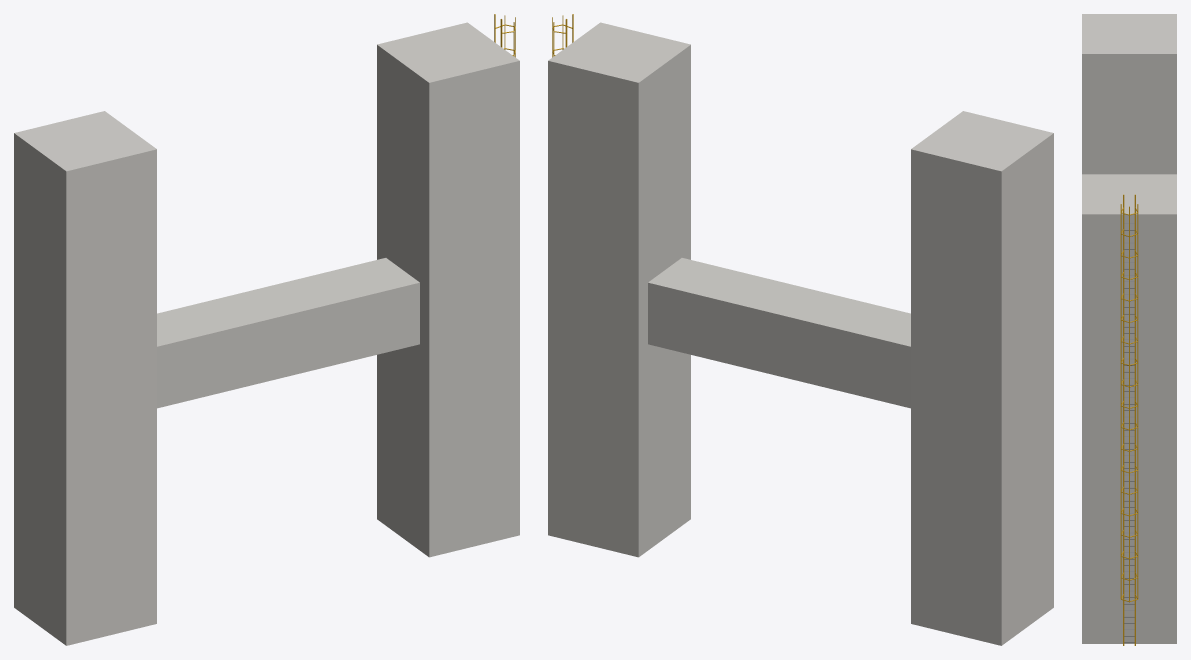
The model's file is driver-pylon-section.glb.
3 renders of one model, left to right at view 1: azimuth 30°, elevation 25°; view 2: azimuth 150°, elevation 25°; view 3: azimuth 270°, elevation 25°, orthographic. The views are drawn at different scales.
Parts seen in each view (by area): view 1: Piece_lod0; view 2: Piece_lod0; view 3: Piece_lod0.
Boxes of the visible parts, box(x1,y1,x2,y2) form: Piece_lod0: box(14, 14, 519, 645); Piece_lod0: box(548, 14, 1053, 645); Piece_lod0: box(1082, 14, 1176, 645).
Size of what is drawn, in the model's own units: 20.97 by 21 by 4.
